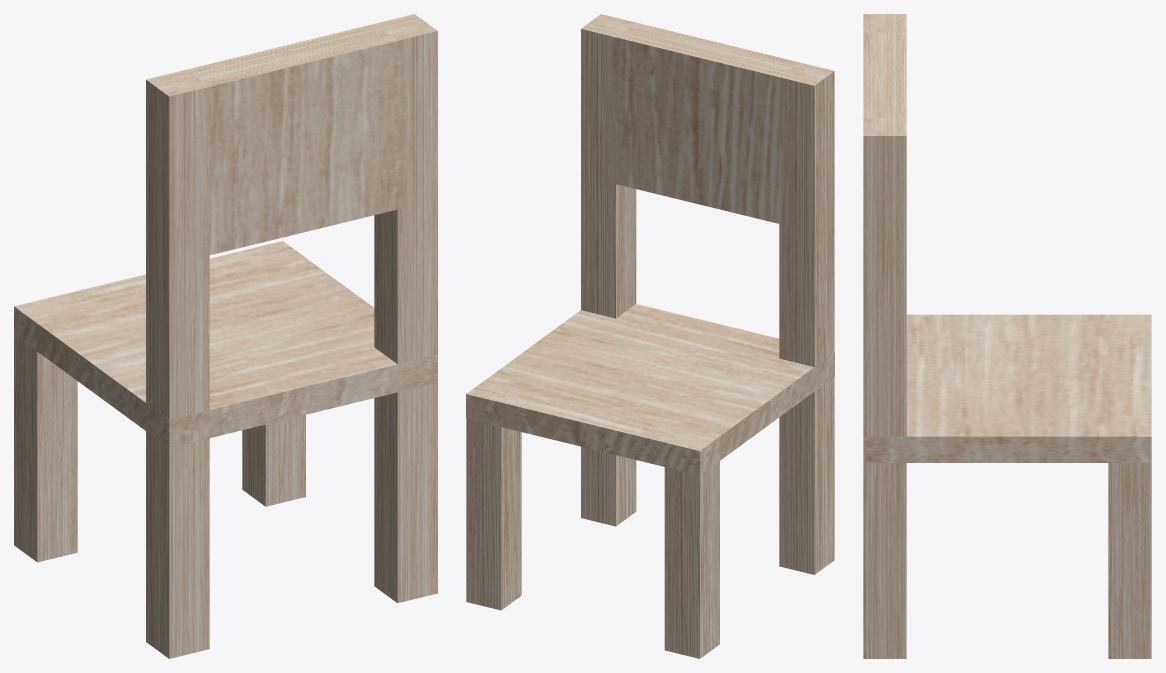
Rendered from bangku_kayu.gltf.
The picture shows the model from 3 angles, left to right: view 1: azimuth 30°, elevation 25°; view 2: azimuth 150°, elevation 25°; view 3: azimuth 270°, elevation 25°; orthographic projection. The views are drawn at different scales.
Visible parts, largest first — view 1: Cube, Cube.005, Cube.003, Cube.002, Cube.004, Cube.001; view 2: Cube, Cube.005, Cube.003, Cube.002, Cube.004, Cube.001; view 3: Cube, Cube.002, Cube.001, Cube.005, Cube.003.
Part boxes in pixels (bbox=[...]): Cube: bbox=[14, 241, 437, 447]; Cube.005: bbox=[186, 24, 406, 259]; Cube.003: bbox=[146, 70, 209, 658]; Cube.002: bbox=[374, 14, 437, 603]; Cube.004: bbox=[14, 335, 77, 562]; Cube.001: bbox=[242, 415, 305, 506]; Cube: bbox=[466, 304, 834, 475]; Cube.005: bbox=[607, 22, 799, 226]; Cube.003: bbox=[779, 62, 834, 574]; Cube.002: bbox=[581, 14, 636, 526]; Cube.004: bbox=[664, 461, 719, 658]; Cube.001: bbox=[466, 418, 521, 610]; Cube: bbox=[863, 314, 1151, 462]; Cube.002: bbox=[863, 117, 906, 658]; Cube.001: bbox=[1108, 463, 1151, 658]; Cube.005: bbox=[863, 32, 906, 117]; Cube.003: bbox=[863, 14, 906, 32].
Size of the model in its own units: 1 by 2 by 1.
Materials: 6 (6 with a texture image).
